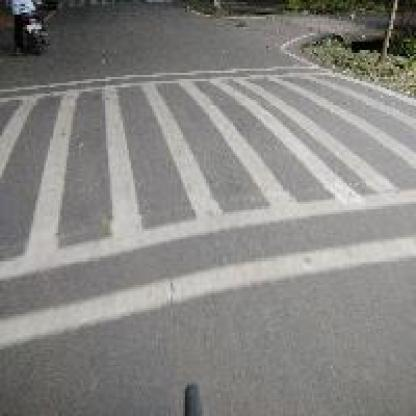Speed Bump: (4, 64, 414, 350)
